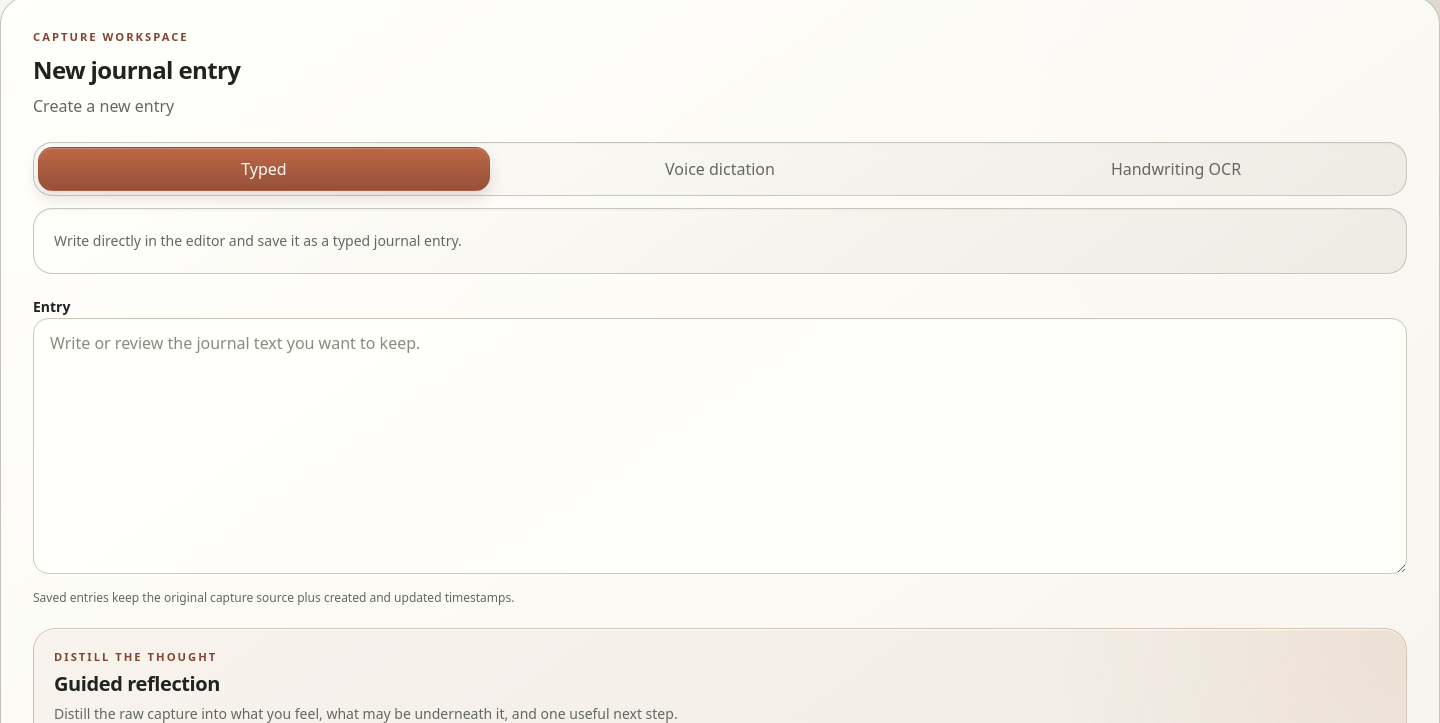
it: JournalCaptureForm › explains how to recover when the reflection session expires
Type "A raw draft" into the text box labelled "Entry" at x=720, y=446, box x1=33 y1=318 x2=1407 y2=574
(page scrolled)
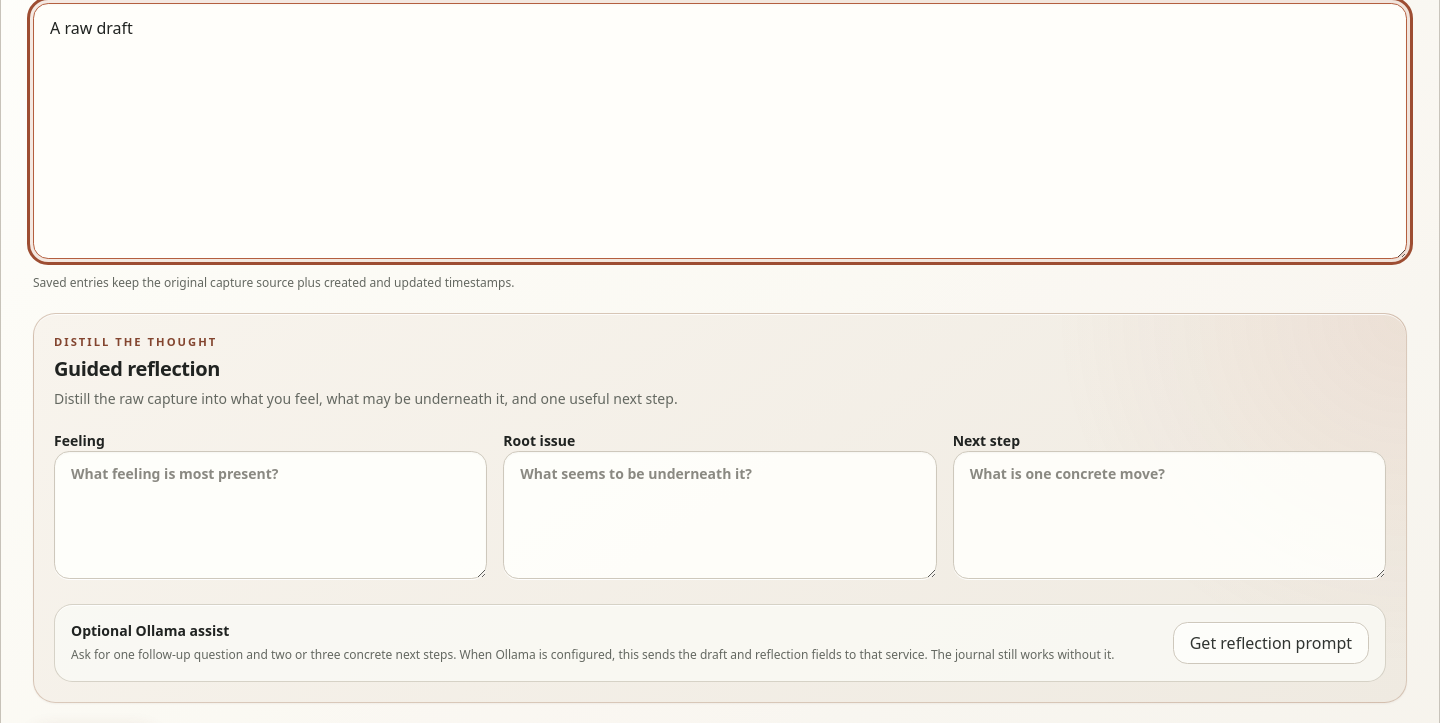
Click the button "Get reflection prompt" at x=1271, y=643, box x1=1173 y1=622 x2=1369 y2=664
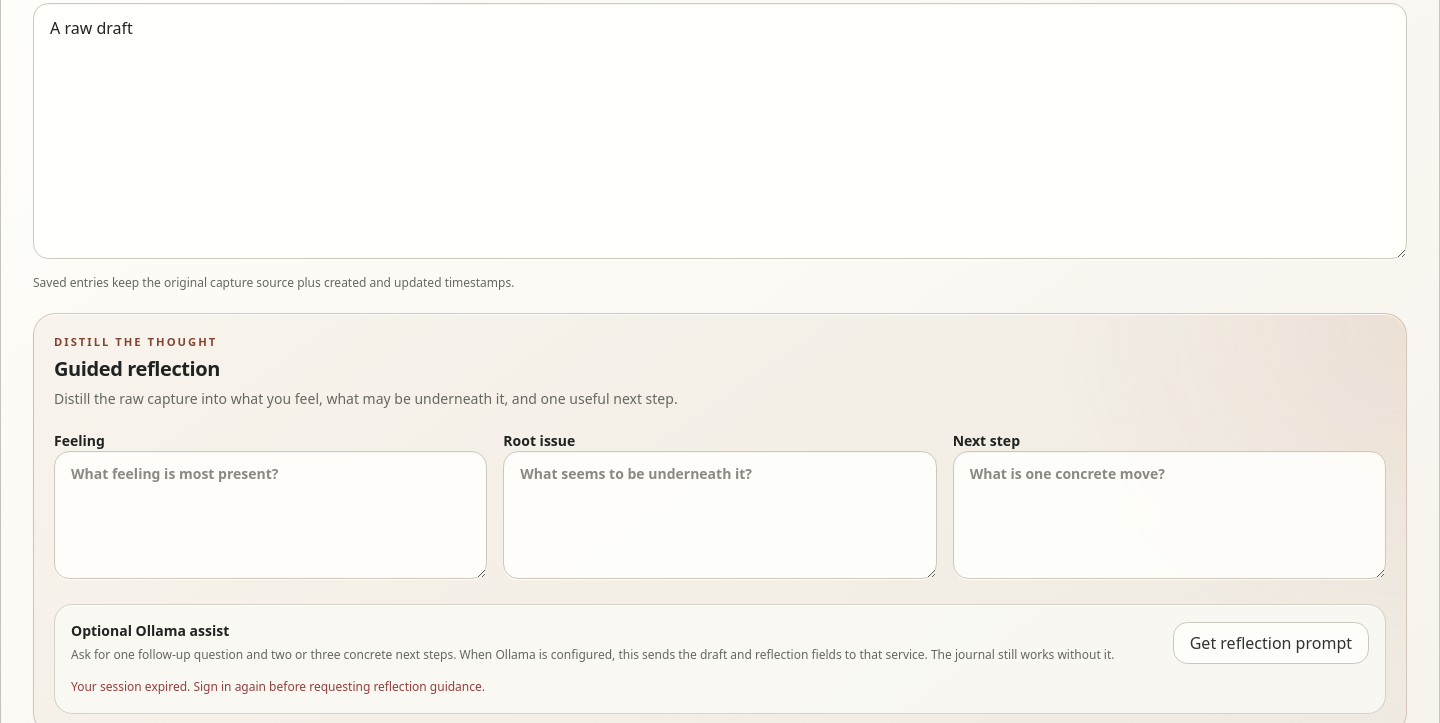
Result: the text "Your session expired. Sign in again before requesting reflection guidance." is shown at x1=71 y1=678 x2=485 y2=695
